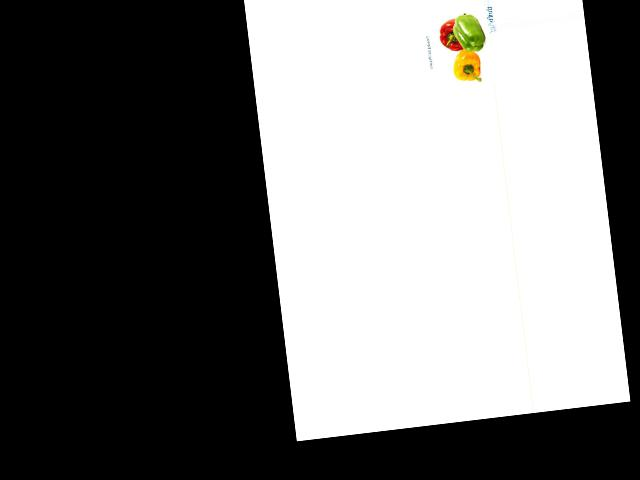bell_pepper: (452, 10, 490, 56)
